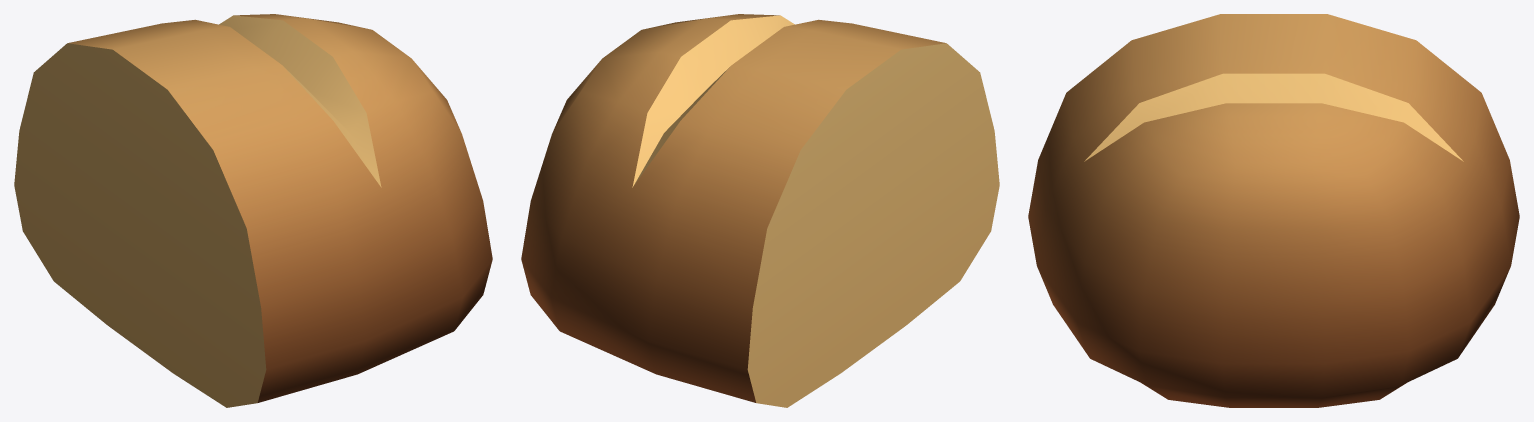
The model's file is Bread_Round_Half_01.glb.
The picture shows the model from 3 angles, left to right: view 1: azimuth 30°, elevation 25°; view 2: azimuth 150°, elevation 25°; view 3: azimuth 270°, elevation 25°; orthographic projection. The views are drawn at different scales.
Parts seen in each view (by area): view 1: Bread_Round_Half_01; view 2: Bread_Round_Half_01; view 3: Bread_Round_Half_01.
Part boxes in pixels (x1,y1,x2,y2): Bread_Round_Half_01: [14, 14, 492, 407]; Bread_Round_Half_01: [521, 14, 999, 407]; Bread_Round_Half_01: [1028, 14, 1519, 407].
Bounding box in the file's own units: 0.397 × 0.343 × 0.5603.
1 material, 1 textured.
